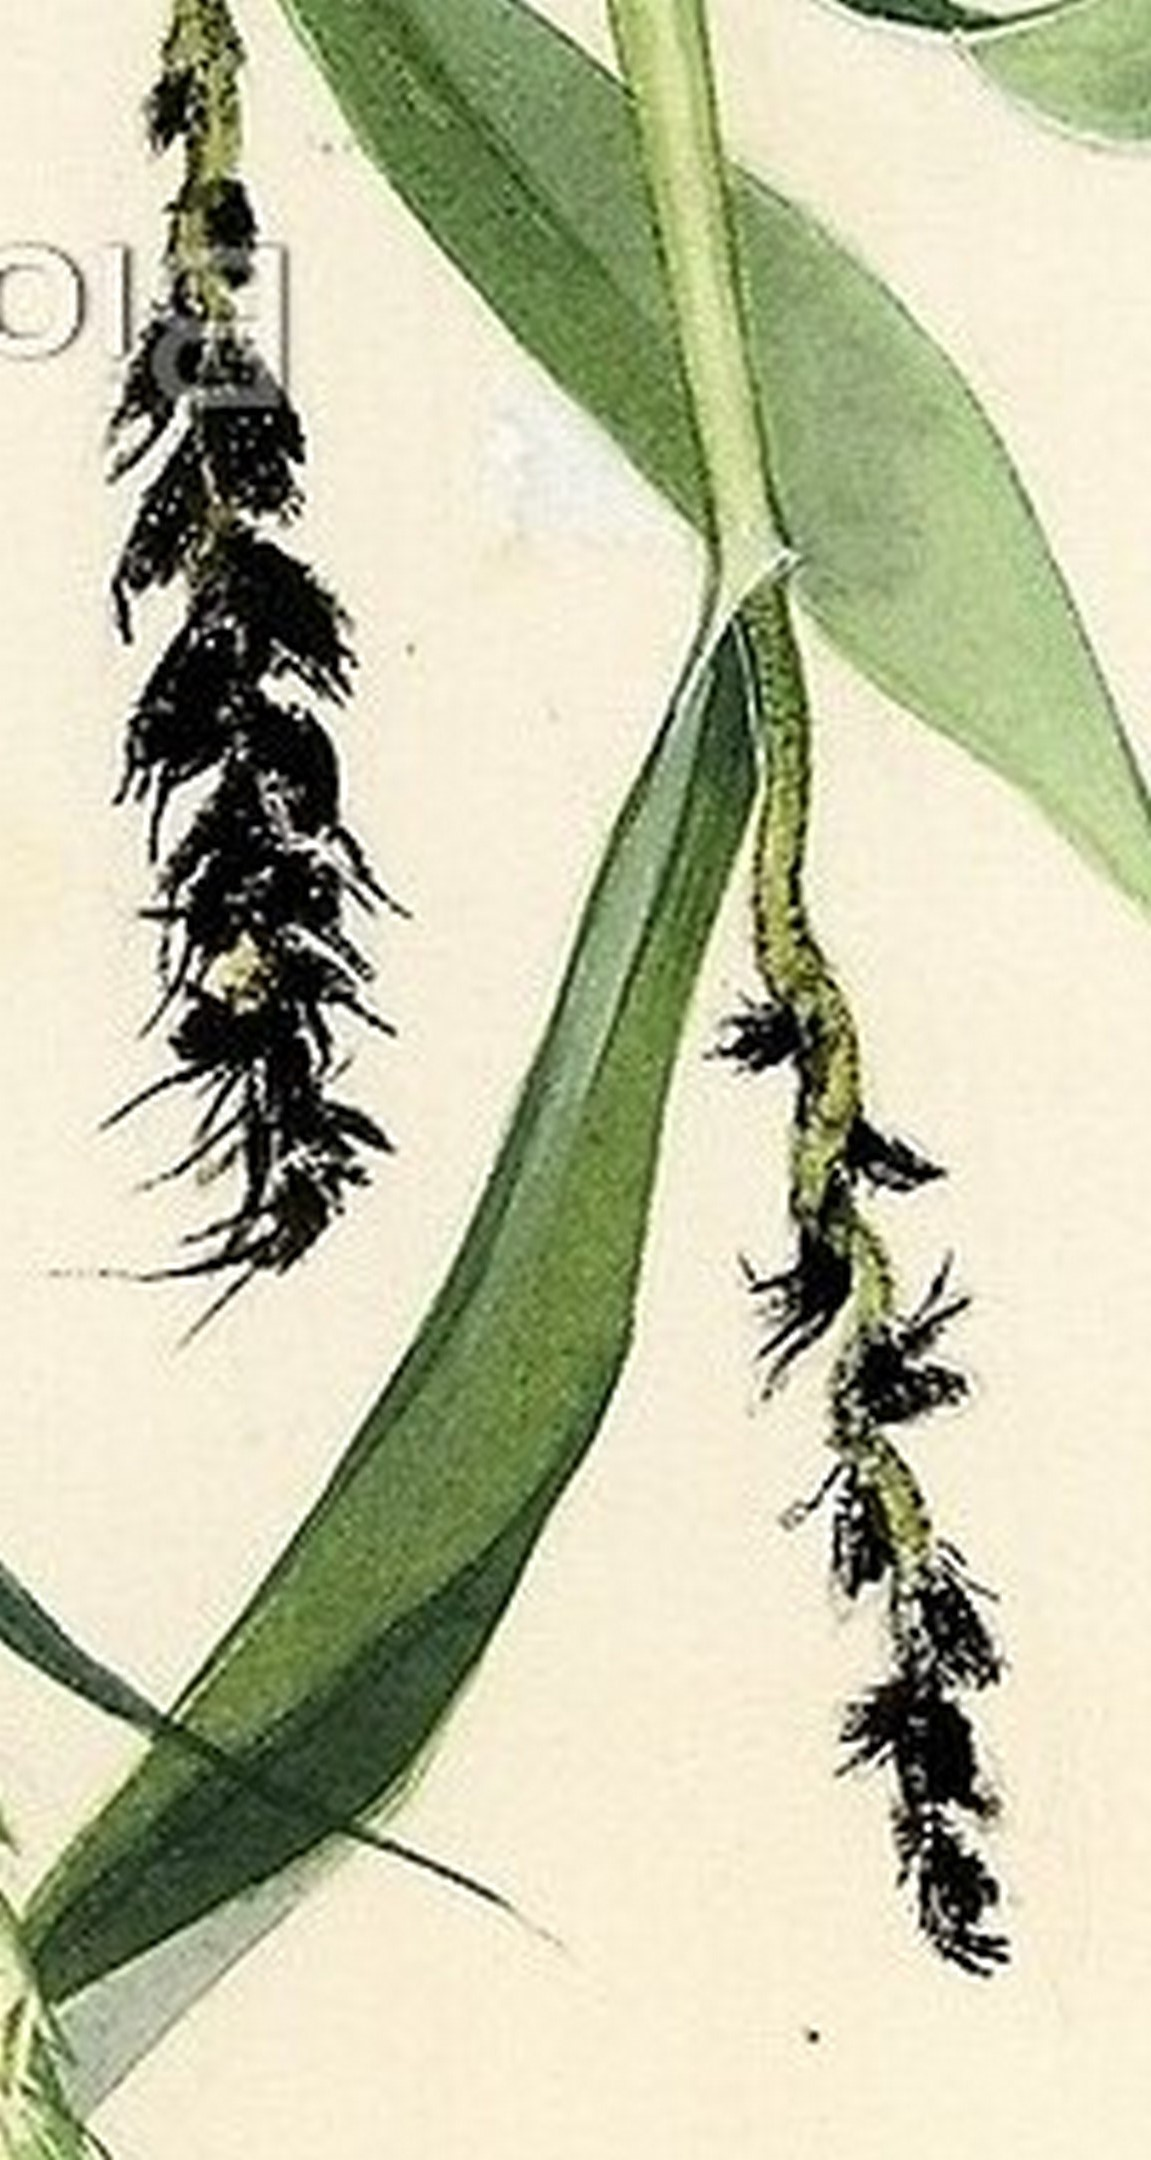Wheat Loose Smut: (120, 101, 426, 1269)
